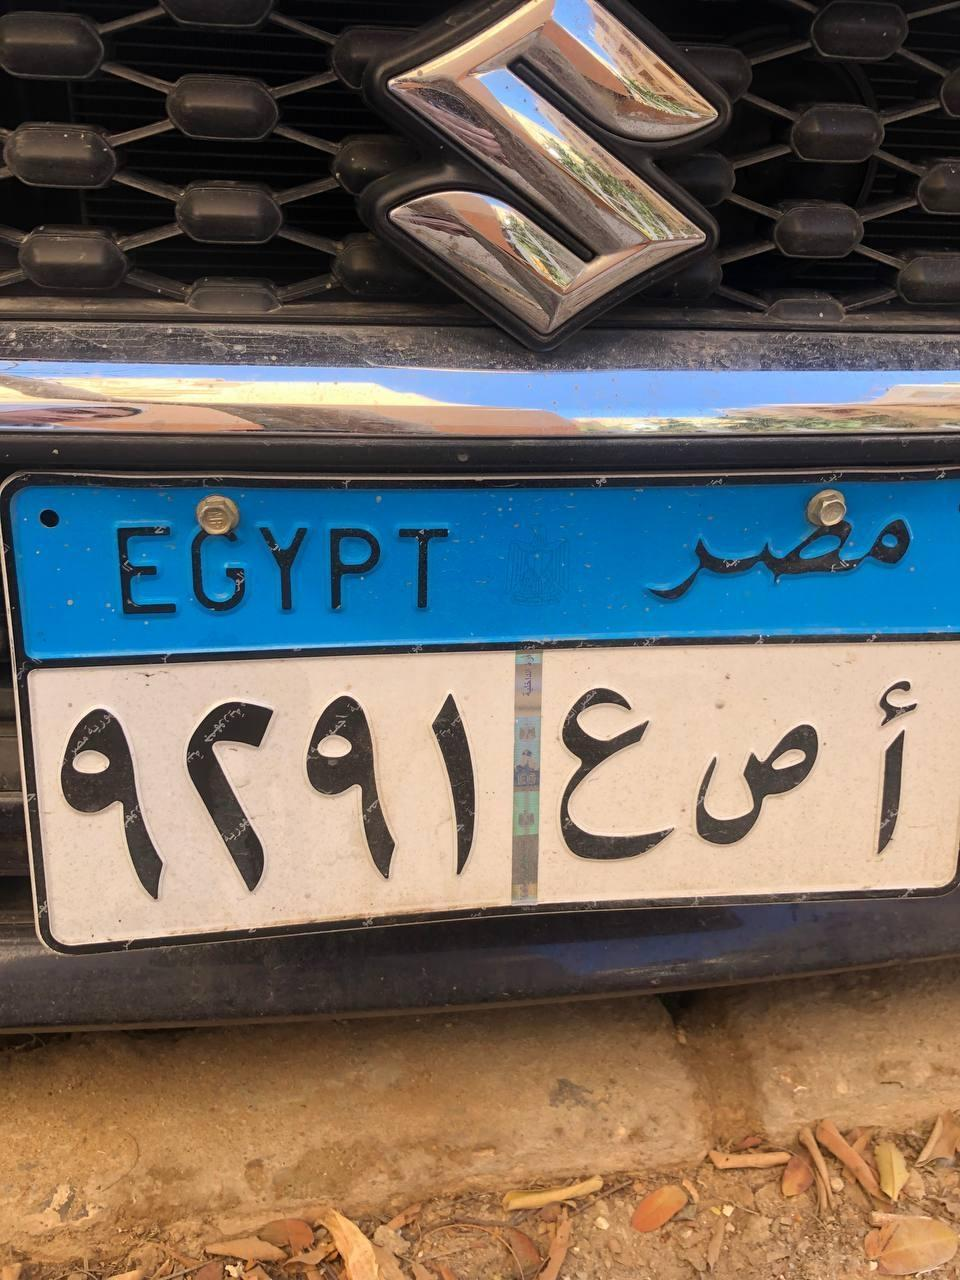1: (421, 613, 490, 901)
2: (180, 690, 280, 908)
9: (46, 698, 178, 914), (309, 700, 413, 896)
Een: (561, 669, 678, 870)
License Plate: (0, 423, 958, 960)
Saad: (696, 698, 832, 866)
alef: (873, 658, 937, 874)
